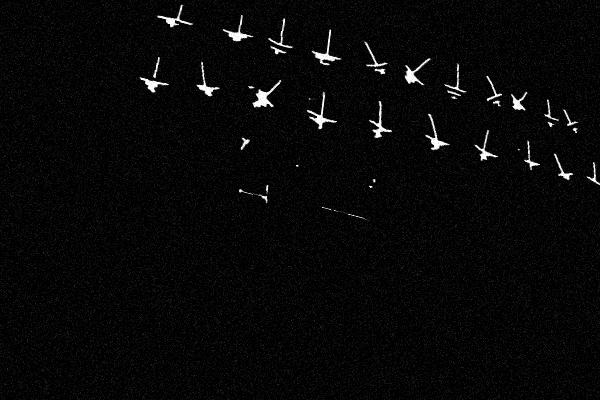ground: (302, 103, 341, 140), (151, 6, 196, 38), (307, 38, 344, 74), (218, 19, 257, 52), (135, 65, 172, 99), (262, 30, 297, 64), (420, 126, 453, 160), (364, 113, 395, 148), (470, 140, 500, 171), (441, 76, 469, 109), (192, 73, 222, 103), (247, 83, 275, 115), (400, 61, 427, 92), (362, 55, 392, 81), (551, 163, 576, 189), (482, 85, 505, 113), (521, 150, 543, 179), (506, 91, 529, 118), (540, 108, 560, 134), (581, 170, 600, 192), (565, 116, 581, 139)
